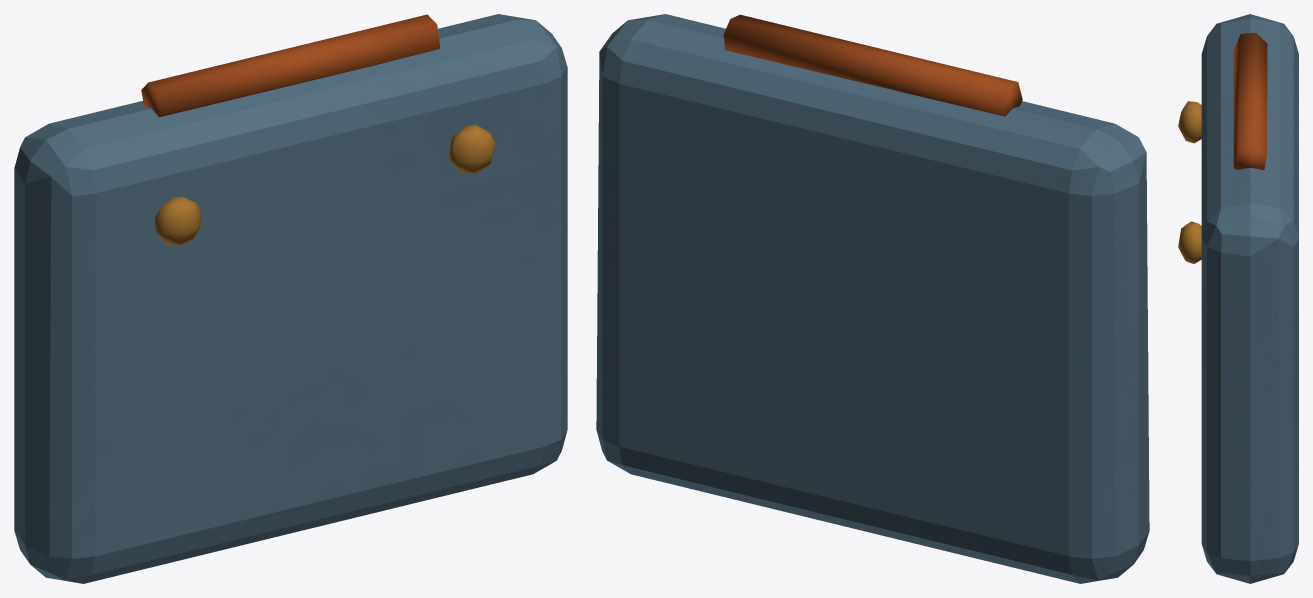
The model's file is SM_iron_shield_fragment_LOD1.fbx.
3 renders of one model, left to right at view 1: azimuth 30°, elevation 25°; view 2: azimuth 150°, elevation 25°; view 3: azimuth 270°, elevation 25°, orthographic. The views are drawn at different scales.
Parts seen in each view (by area): view 1: SM_iron_shield_fragment_LOD1; view 2: SM_iron_shield_fragment_LOD1; view 3: SM_iron_shield_fragment_LOD1.
Boxes of the visible parts, box(x1,y1,x2,y2) form: SM_iron_shield_fragment_LOD1: box(14, 14, 567, 583); SM_iron_shield_fragment_LOD1: box(596, 14, 1149, 583); SM_iron_shield_fragment_LOD1: box(1178, 14, 1298, 583).
Size of the model in its own units: 0.3621 by 0.0845 by 0.3073.
